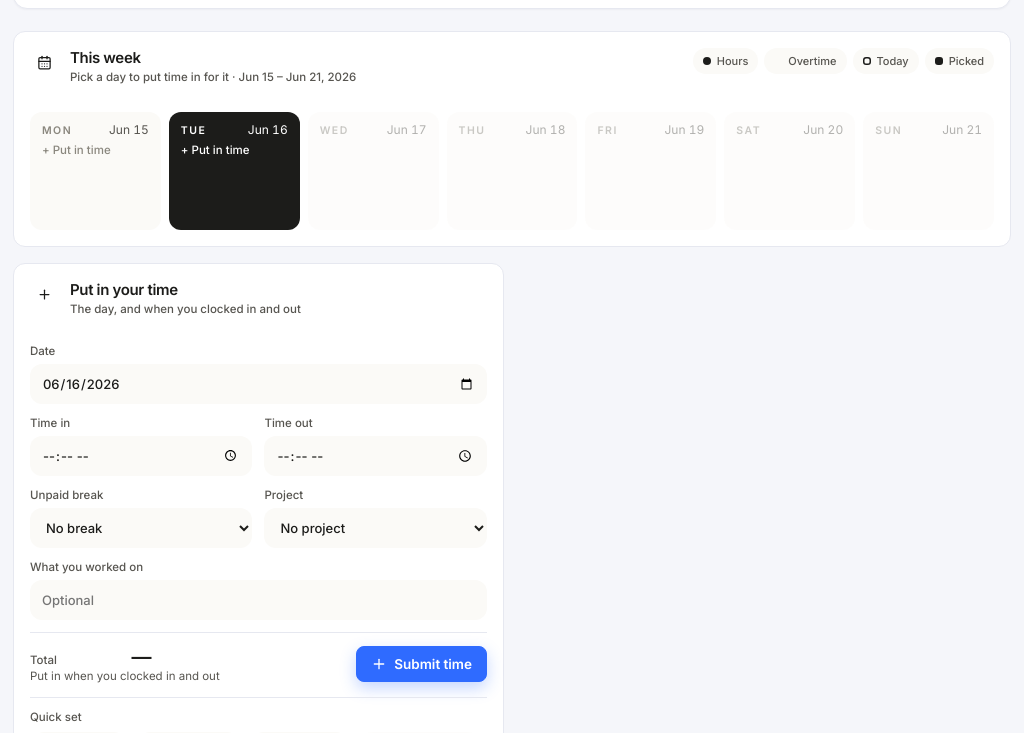
Scenario: a Member putting in their time › checks the time before sending it
(page scrolled)
Type "2026-06-15" into the date field labelled "Date" at (258, 384), box [30,364,487,404]
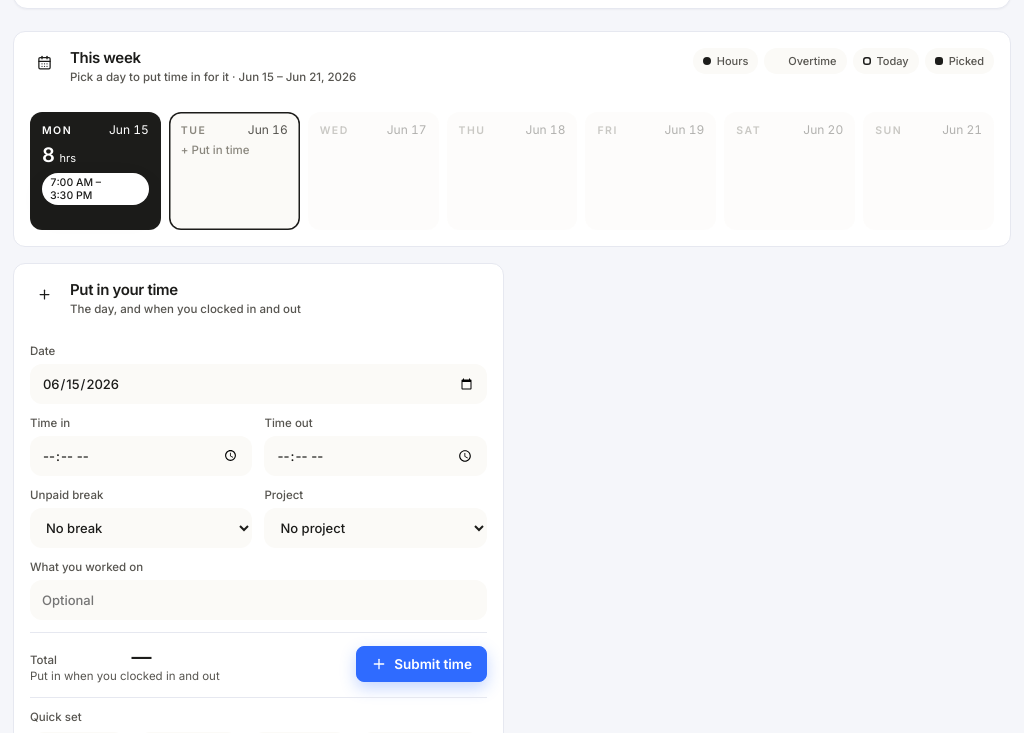
Click the button "Submit time" at (422, 664), box [356,646,487,682]
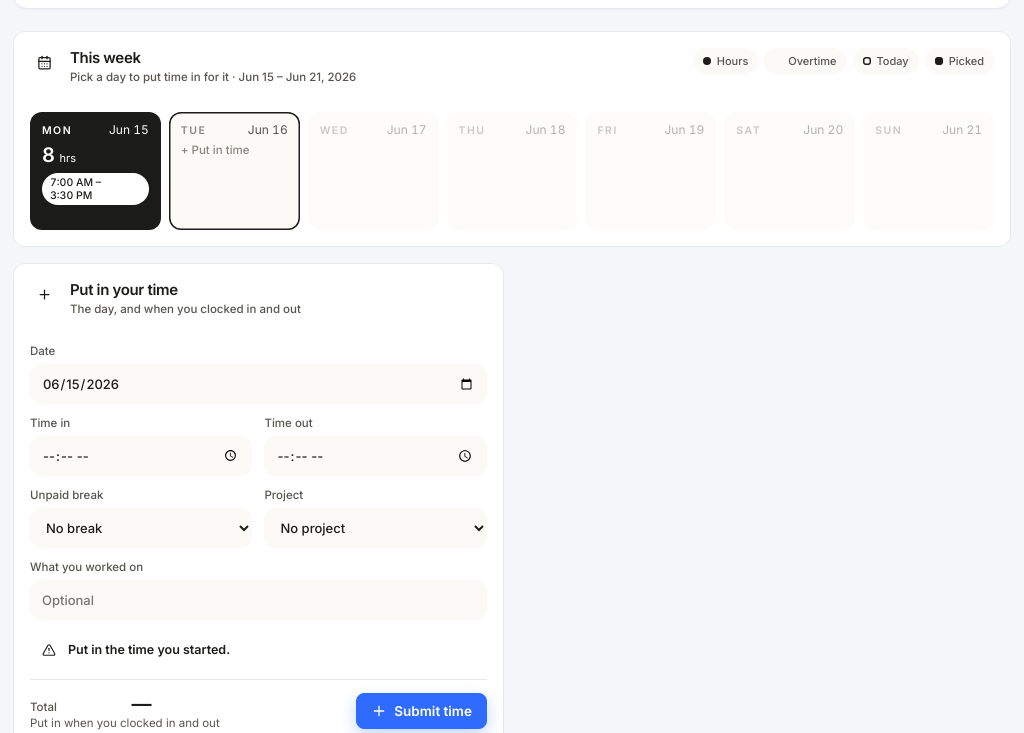
Expected: the message reads "Put in the time you started.", [68,642,230,657]
Type "15:00" into the time field labelled "Time in" at (141, 456), box [30,436,252,476]
Type "07:00" into the time field labelled "Time out" at (376, 456), box [264,436,487,476]
Click the button "Submit time" at (422, 711), box [356,693,487,729]
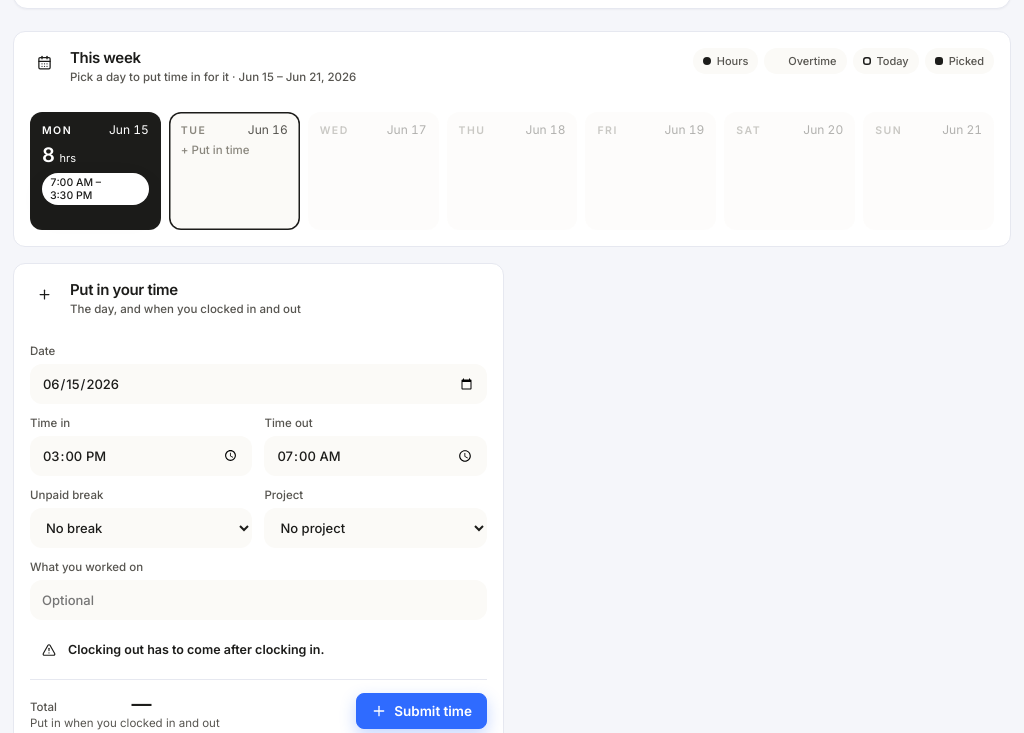
Expected: the message reads "Clocking out has to come after clocking in.", [68,642,324,657]
Replace the text in the time field labelled "Time in" with "12:00" at (141, 456), box [30,436,252,476]
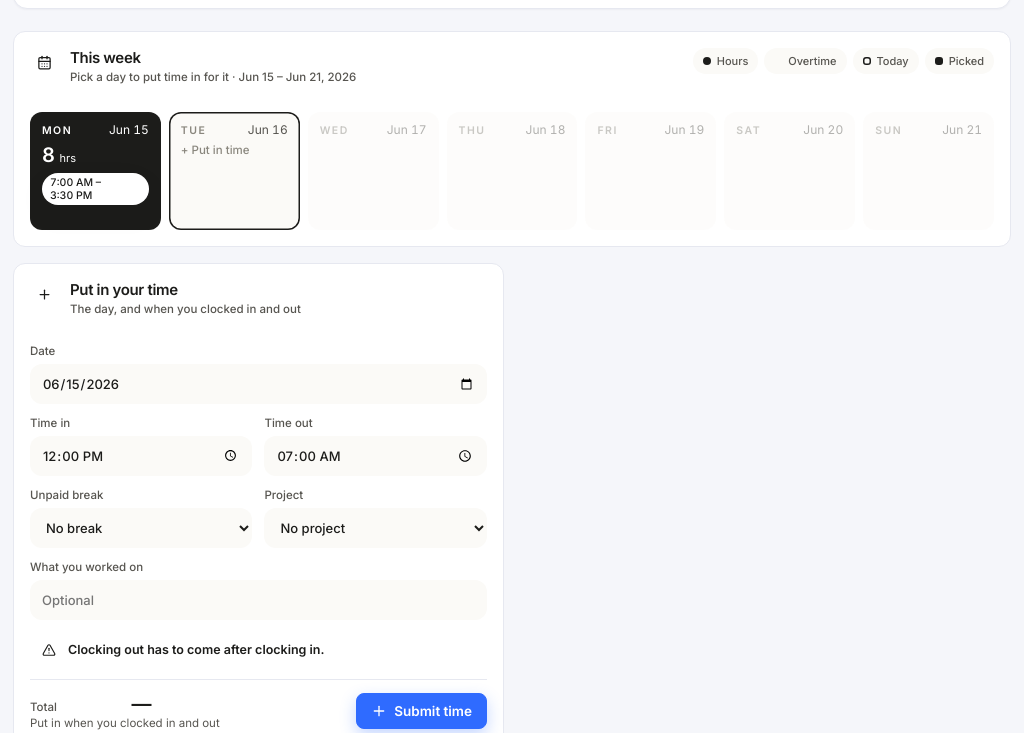
Replace the text in the time field labelled "Time out" with "18:00" at (376, 456), box [264,436,487,476]
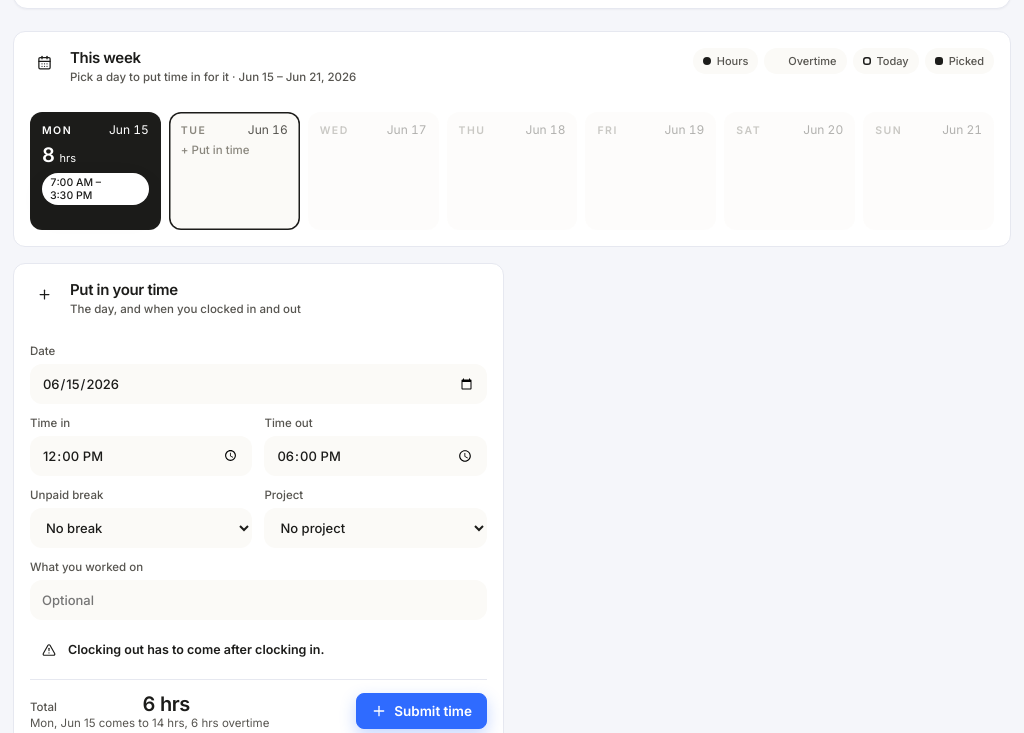
Click the button "Submit time" at (422, 711), box [356,693,487,729]
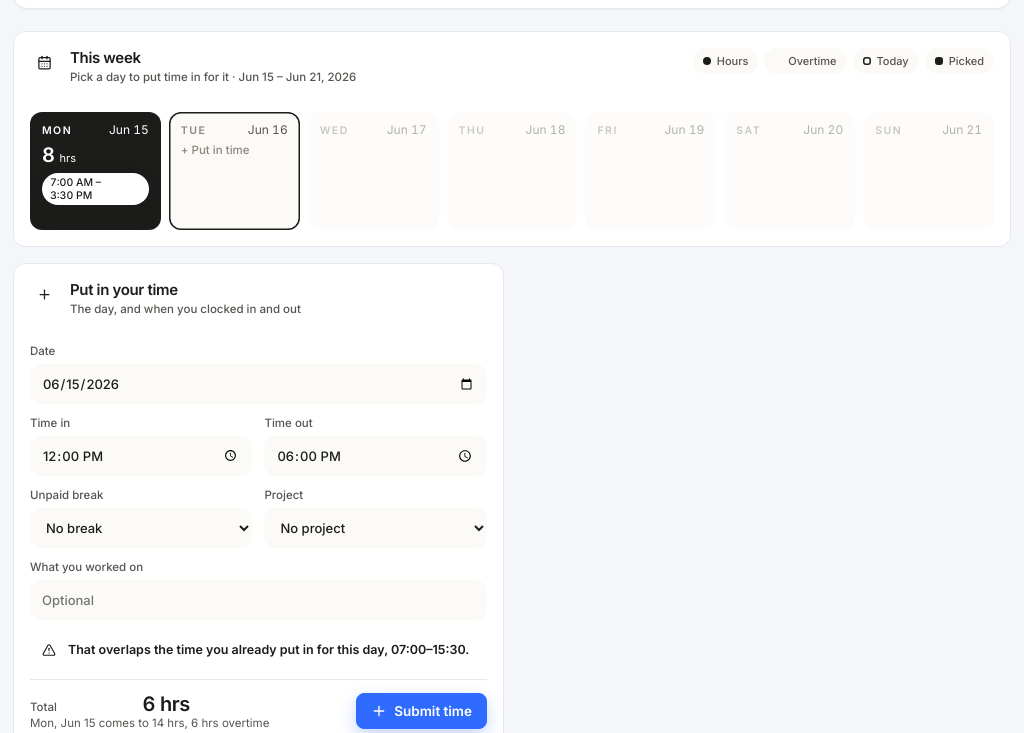
Expected: the message reads "That overlaps the time you already put in for this day, 07:00–15:30.", [68,642,469,657]
